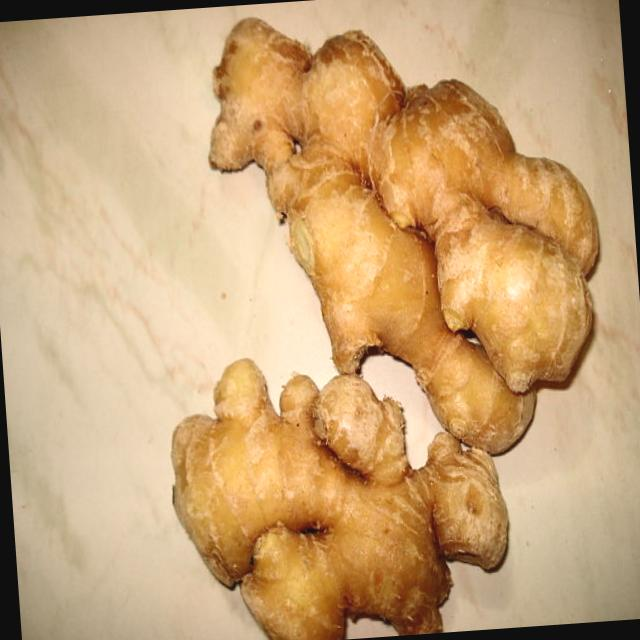ginger-root: (165, 11, 620, 466), (162, 337, 543, 640)
